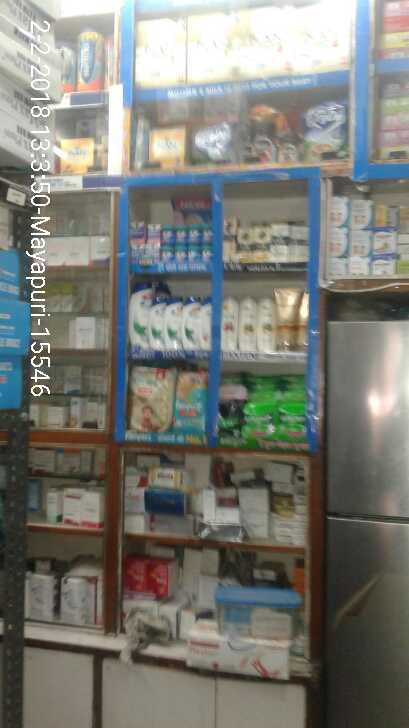vicks: (126, 214, 216, 266)
